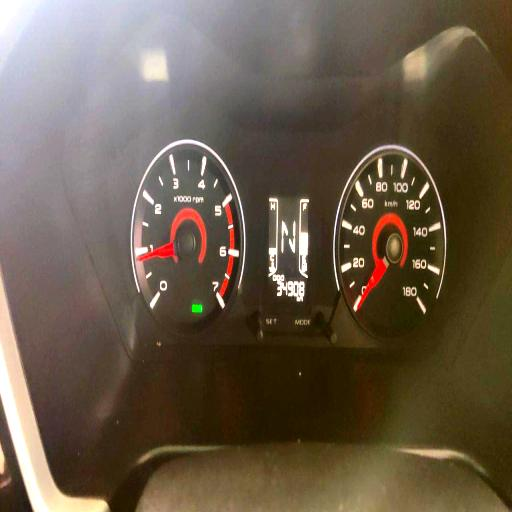tachometer: (131, 137, 246, 330)
